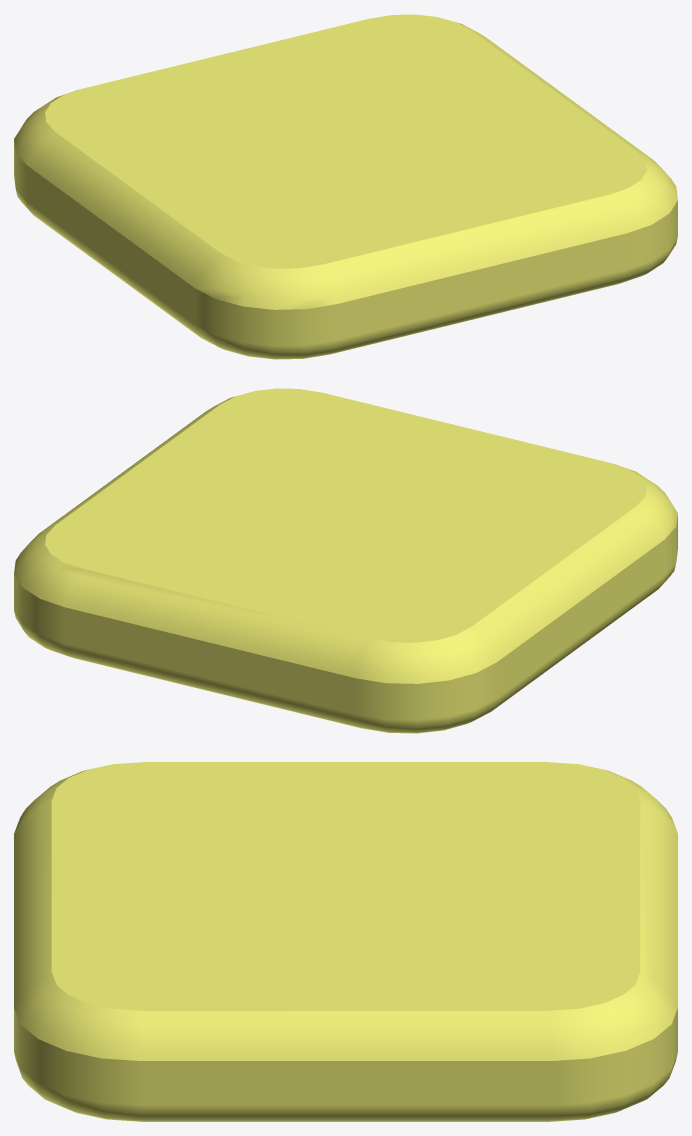
File: Object_button_02_01.fbx
The picture shows the model from 3 angles, top to bottom: view 1: azimuth 30°, elevation 25°; view 2: azimuth 150°, elevation 25°; view 3: azimuth 270°, elevation 25°; orthographic projection. The views are drawn at different scales.
Visible parts, largest first — view 1: main.002; view 2: main.002; view 3: main.002.
Boxes of the visible parts, x1=… form: main.002: x1=14, y1=14, x2=677, y2=359; main.002: x1=14, y1=388, x2=677, y2=733; main.002: x1=14, y1=762, x2=677, y2=1121.
Size of the model in its own units: 200 by 34.75 by 200.
